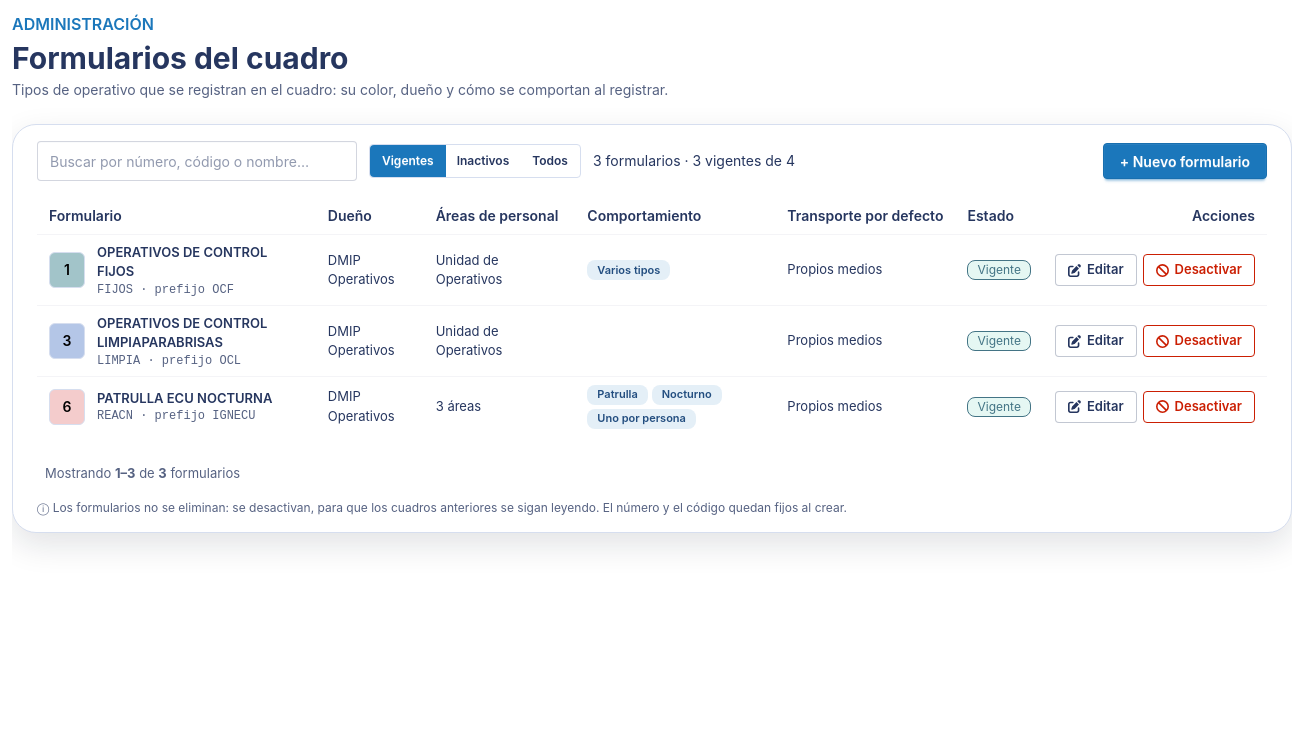
Test: tabla y filtro › busca por número, código o nombre
Check: the table named "Formularios del cuadro" is shown, box [37, 197, 1267, 436]
Type "limpia" into the search field.
click(197, 161); type("limpia")  # box [37, 141, 357, 181]
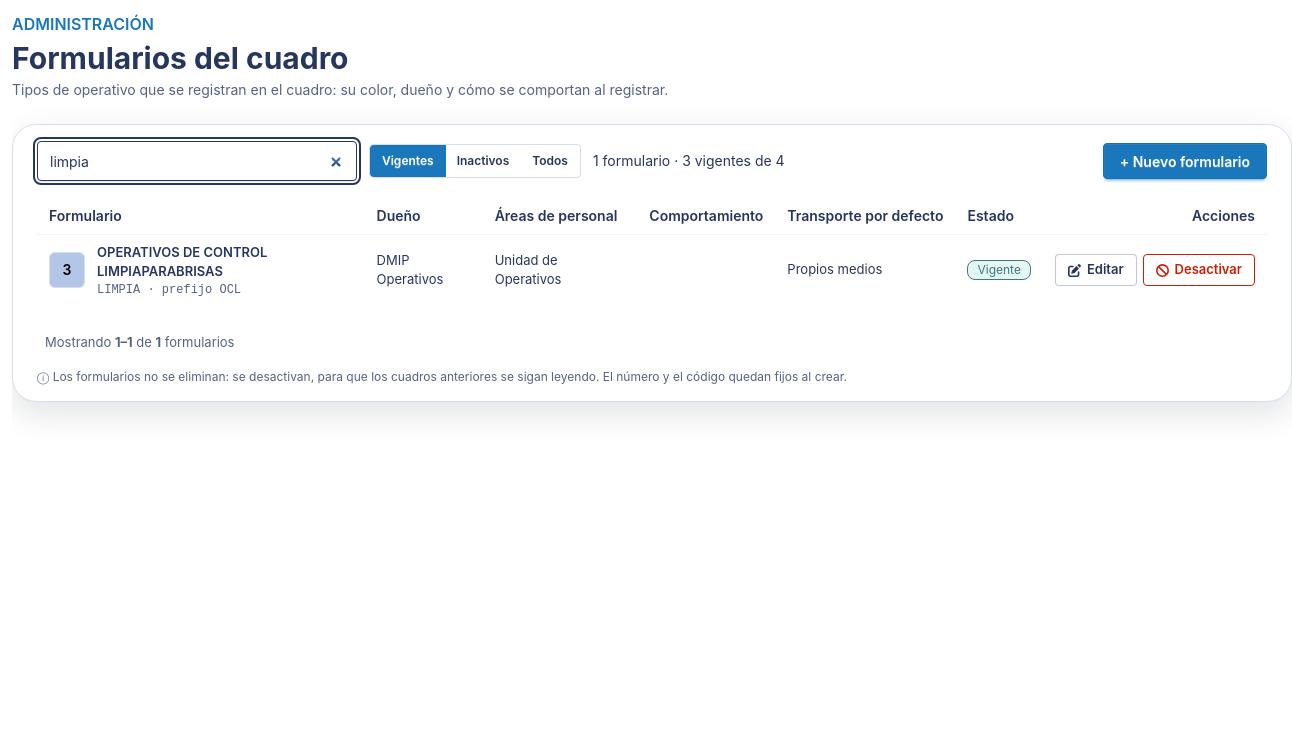
Check: the text "OPERATIVOS DE CONTROL LIMPIAPARABRISAS" is shown, box [96, 242, 267, 279]
Check: the text "OPERATIVOS DE CONTROL FIJOS" is gone
